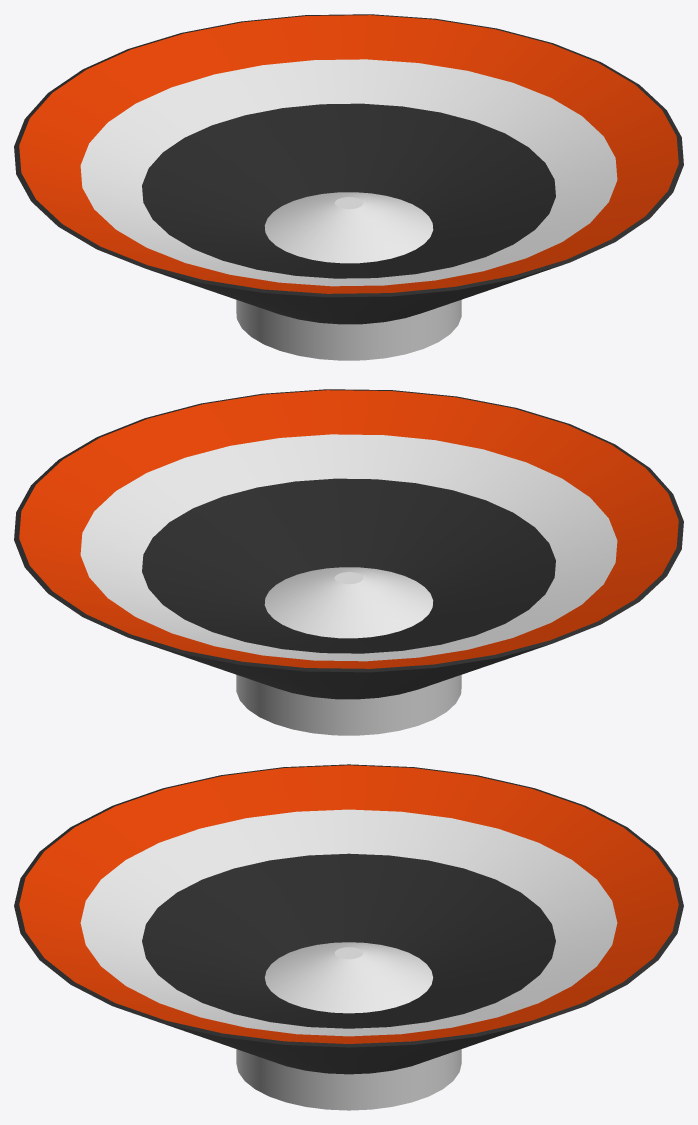
File: Speaker_simple.fbx
3 renders of one model, top to bottom at view 1: azimuth 30°, elevation 25°; view 2: azimuth 150°, elevation 25°; view 3: azimuth 270°, elevation 25°, orthographic.
Parts seen in each view (by area): view 1: Speaker; view 2: Speaker; view 3: Speaker.
Boxes of the visible parts, <box> form: Speaker: <box>14,14,683,360</box>; Speaker: <box>14,389,683,735</box>; Speaker: <box>14,764,683,1110</box>.
Bounding box in the file's own units: 193 × 50.37 × 193.
